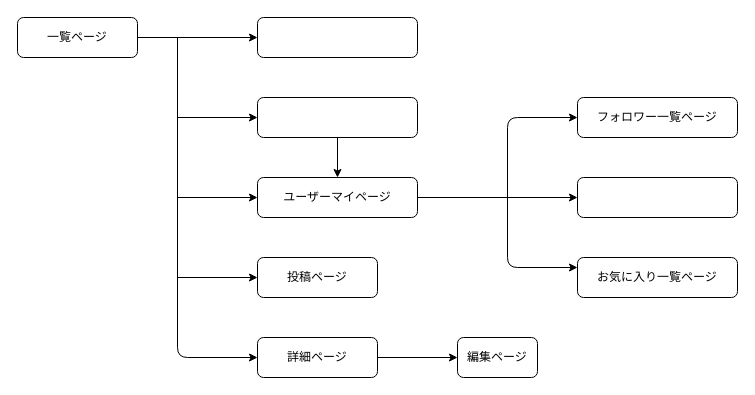
The diagram is 755 pixels wide and 395 high, and some of its shapes have lost their labels. Here are the shapes that lost their labels. From the top down, the centre of each, then its label:
At (337,37): "ユーザーログインページ".
At (337,117): "ユーザー新規登録ページ".
At (657,197): "フォロー一覧ページ".
